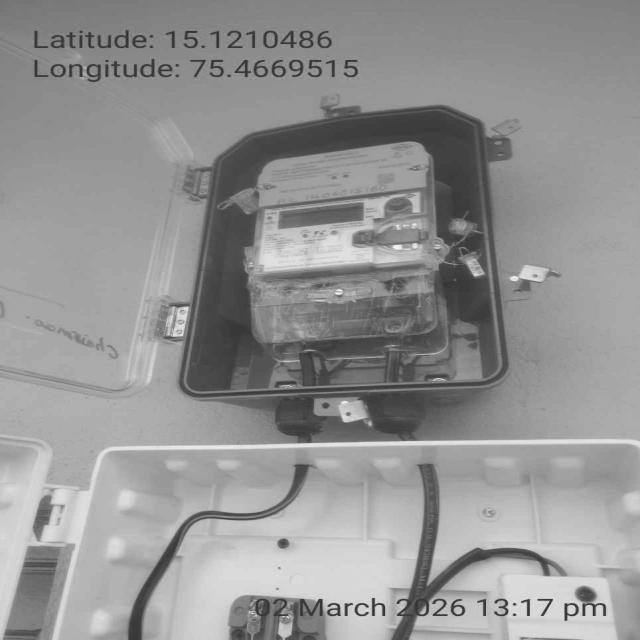meter: (255, 145, 430, 273)
